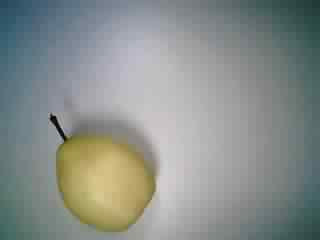pear: (39, 108, 161, 234)
